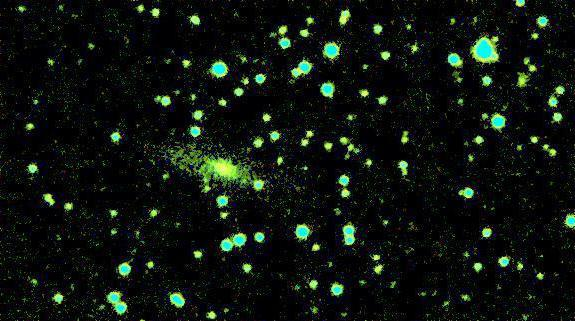star: (227, 165, 257, 195)
